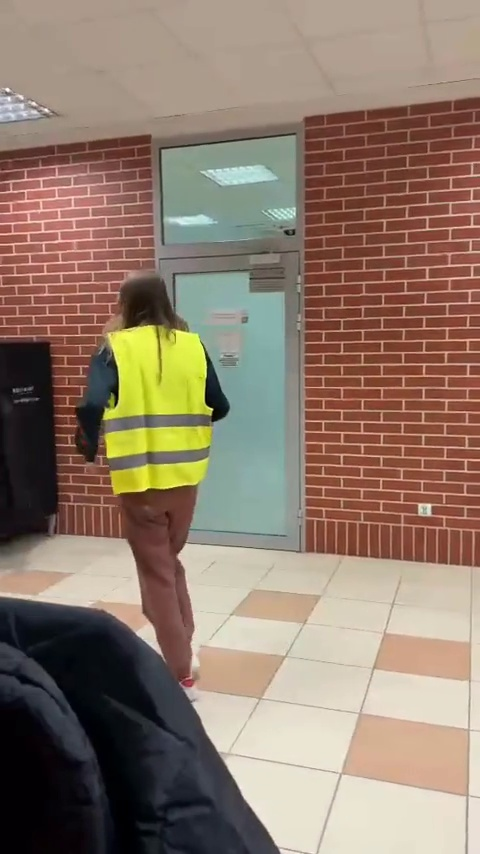vest: (73, 266, 236, 695)
